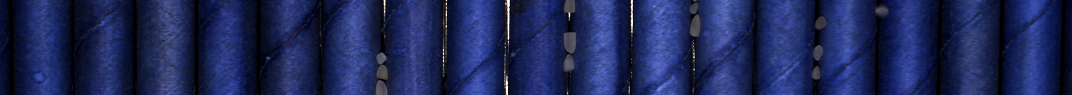broken_grain: (563, 29, 577, 56), (689, 14, 703, 39), (561, 1, 579, 16), (563, 53, 576, 73), (375, 79, 390, 95), (813, 45, 825, 62), (810, 65, 823, 80), (815, 15, 827, 30), (375, 52, 387, 65), (689, 2, 700, 15)
yellow_grain: (376, 64, 389, 81)
